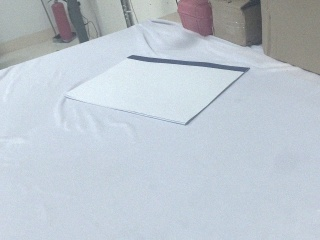box: (260, 1, 319, 76), (212, 1, 262, 48)
